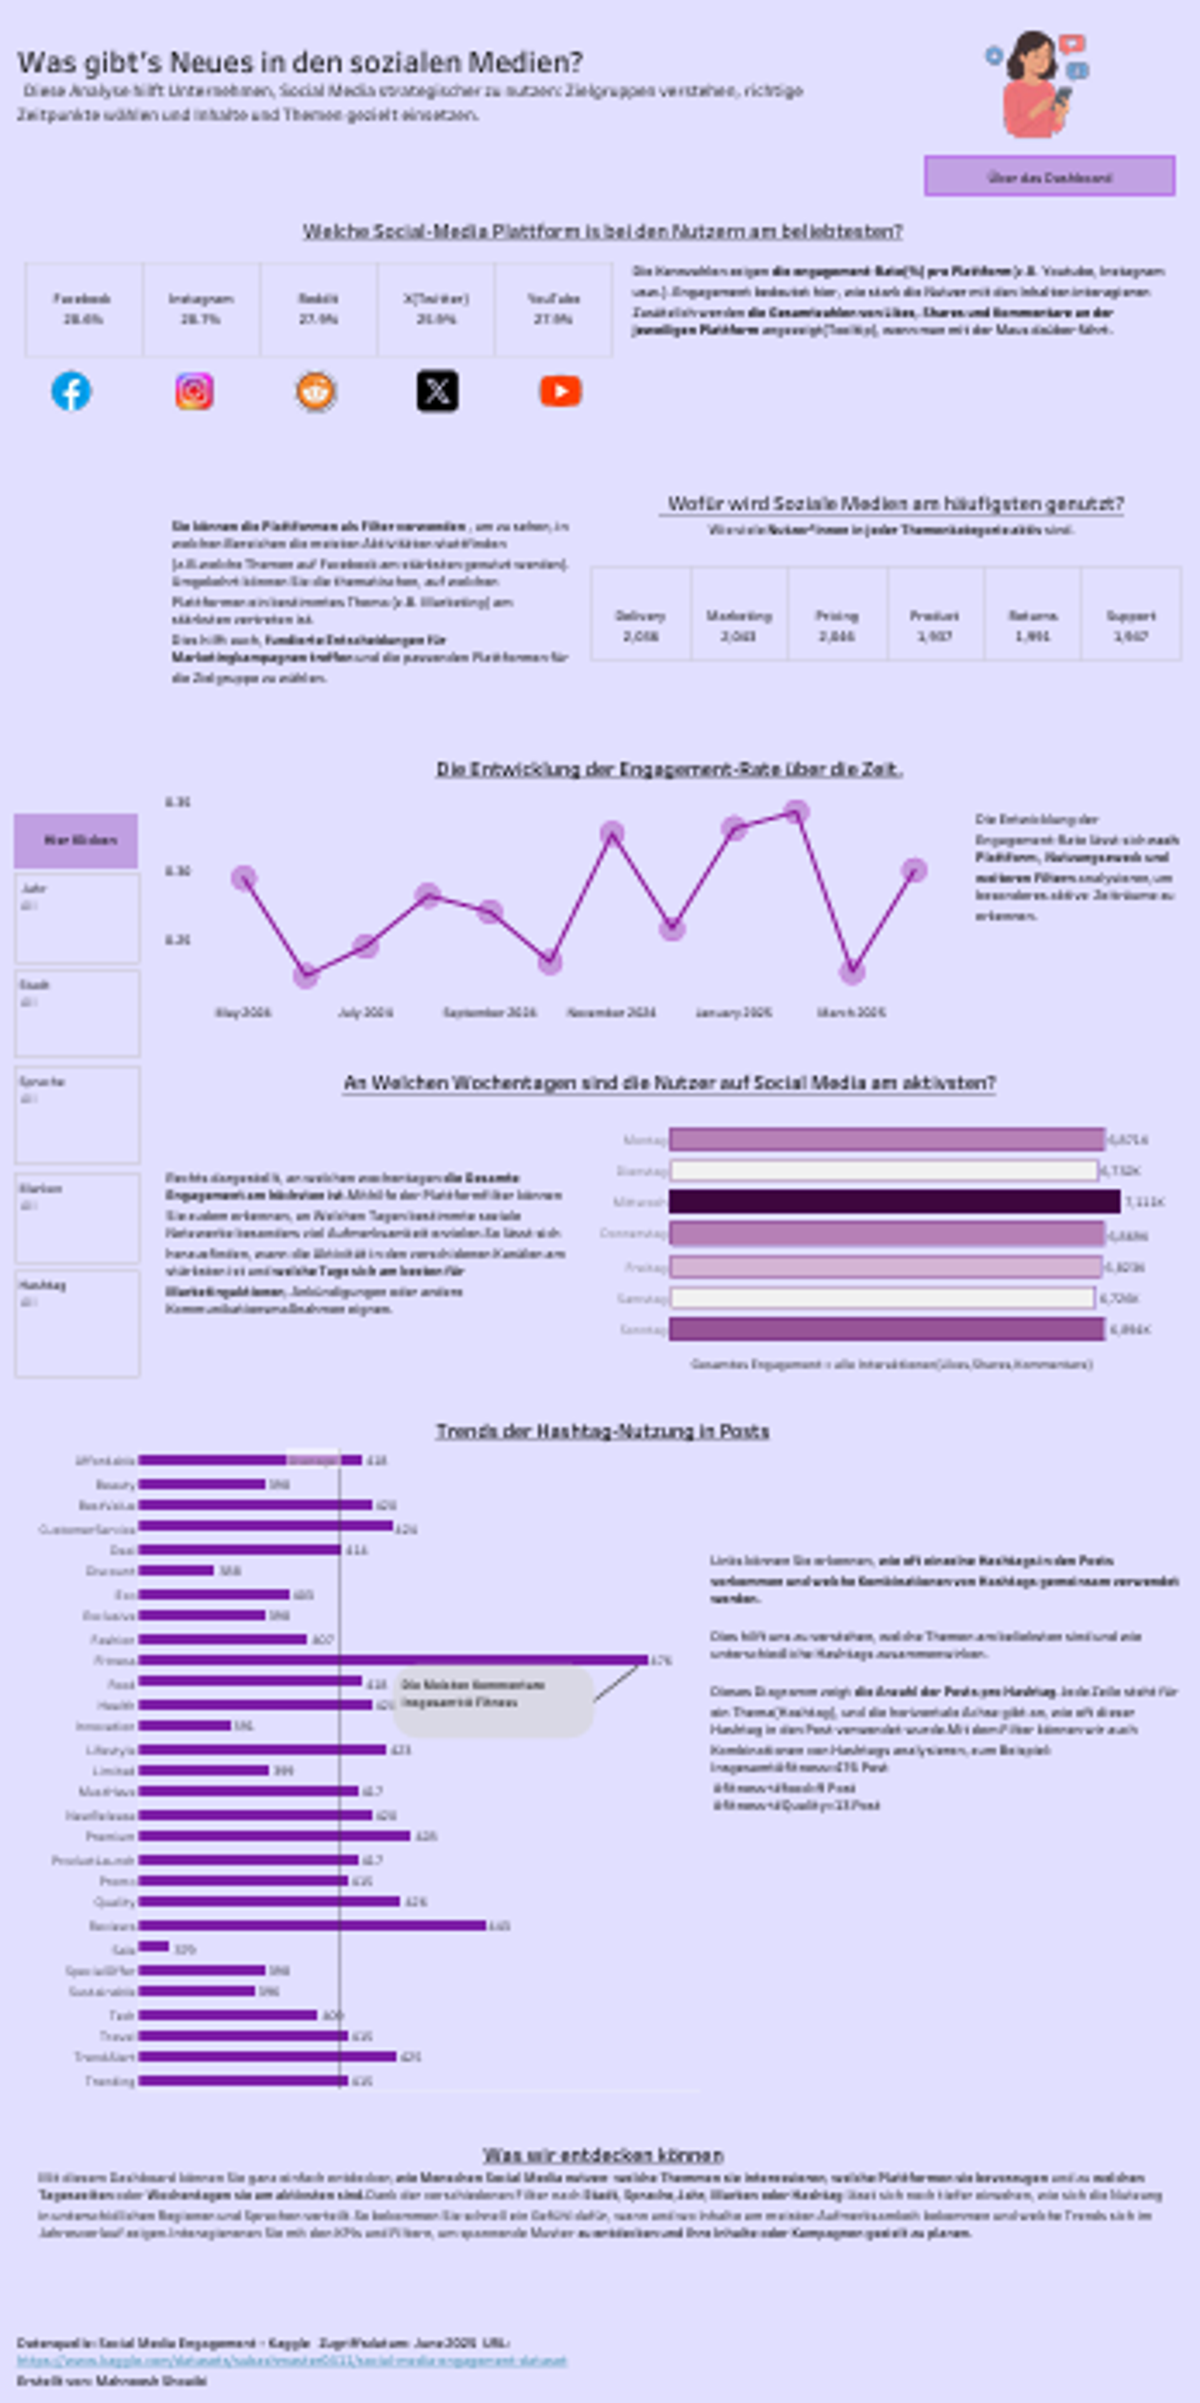

The dashboard page shown, as its layout file describes it:
{"tool":"tableau","page":{"name":"Main Dashboard","canvas":[1020,1800],"ordinal":0},"visuals":[{"type":"title","box":[8,8,1004,72]},{"type":"text","box":[8,80,1004,32]},{"type":"image","param":"Image/Like.jpeg","box":[8,112,328.4,44.8]},{"type":"image","param":"Image/comment1.jpeg","box":[336.4,112,321.5,44.8]},{"type":"image","param":"Image/Share.jpeg","box":[657.8,112,354.2,44.8]},{"type":"worksheet","title":"Like","mark":"Automatic","box":[8,156.8,328.7,34.4]},{"type":"worksheet","title":"Comment","mark":"Automatic","box":[336.7,156.8,321.3,34.4]},{"type":"worksheet","title":"Share","mark":"Automatic","box":[658,156.8,354,34.4]},{"type":"worksheet","title":"Platform","mark":"Bar","rows":["engagement_rate"],"cols":["platform"],"box":[8,191.2,1004,137.4]},{"type":"image","param":"Image/Instagram.png","box":[8,328.7,205.4,39.1]},{"type":"image","param":"Image/Facebook.png","box":[213.4,328.7,196.6,39.1]},{"type":"image","param":"Image/youtube.png","box":[410,328.7,197.1,39.1]},{"type":"image","param":"Image/Reddit.png","box":[607.1,328.7,206.4,39.1]},{"type":"image","param":"Image/X2.jpeg","box":[813.5,328.7,198.5,39.1]},{"type":"text","box":[8,367.8,1004,91.5]},{"type":"worksheet","title":"KPI-Using Social Media","mark":"Automatic","cols":["topic_category"],"box":[8,459.3,1004,117.7]},{"type":"worksheet","title":"weekday","mark":"Automatic","rows":["Calculation_186617955085561867"],"cols":["day_of_week"],"box":[8,577,943.1,166.5]},{"type":"filter","title":"weekday","param":"[federated.00w22cp04i209j12sh5eh1aul82e].[yr:timestamp:ok]","box":[951.1,577,60.9,166.5]},{"type":"text","box":[8,743.5,864,90.9]},{"type":"filter","title":"Engagement-Rate (2)","param":"[federated.00w22cp04i209j12sh5eh1aul82e].[none:brand_name:nk]","box":[872,743.5,140,90.9]},{"type":"worksheet","title":"Engagement-Rate (2)","mark":"Area","rows":["engagement_rate"],"cols":["timestamp"],"box":[8,834.4,1004,203.8]},{"type":"text","box":[8,1038.2,1004,37]},{"type":"worksheet","title":"Map","mark":"Automatic","box":[8,1075.2,511,191.9]},{"type":"worksheet","title":"Language","mark":"Automatic","box":[519,1075.2,493,191.9]},{"type":"text","box":[8,1267.1,828.6,66.2]},{"type":"filter","title":"Hashtags","param":"[federated.00w22cp04i209j12sh5eh1aul82e].[none:hashtags - Split 2:nk]","box":[836.6,1267.1,175.4,66.2]},{"type":"worksheet","title":"Hashtags","mark":"Automatic","rows":["text_content"],"cols":["hashtags - Split 1"],"box":[8,1333.3,1004,237]},{"type":"worksheet","title":"sentimental-share","mark":"Circle","rows":["shares_count"],"cols":["sentiment_label"],"box":[8,1570.3,1004,136.3]},{"type":"text","box":[8,1706.6,1004,30.7]},{"type":"text","box":[8,1737.3,1004,54.7]}]}

Visuals, with their boxes on the page's 1020x1800 design canvas (x1, y1, x2, y2). These are canvas units, not pixel positions in the 1200x2403 screenshot, which may show the page scaled, cropped or inside an application window:
title: detection(8, 8, 1012, 80)
text: detection(8, 80, 1012, 112)
image: detection(8, 112, 336, 157)
image: detection(336, 112, 658, 157)
image: detection(658, 112, 1012, 157)
"Like" worksheet: detection(8, 157, 337, 191)
"Comment" worksheet: detection(337, 157, 658, 191)
"Share" worksheet: detection(658, 157, 1012, 191)
"Platform" worksheet (Bar marks): detection(8, 191, 1012, 329)
image: detection(8, 329, 213, 368)
image: detection(213, 329, 410, 368)
image: detection(410, 329, 607, 368)
image: detection(607, 329, 814, 368)
image: detection(814, 329, 1012, 368)
text: detection(8, 368, 1012, 459)
"KPI-Using Social Media" worksheet: detection(8, 459, 1012, 577)
"weekday" worksheet: detection(8, 577, 951, 744)
"weekday" filter: detection(951, 577, 1012, 744)
text: detection(8, 744, 872, 834)
"Engagement-Rate (2)" filter: detection(872, 744, 1012, 834)
"Engagement-Rate (2)" worksheet (Area marks): detection(8, 834, 1012, 1038)
text: detection(8, 1038, 1012, 1075)
"Map" worksheet: detection(8, 1075, 519, 1267)
"Language" worksheet: detection(519, 1075, 1012, 1267)
text: detection(8, 1267, 837, 1333)
"Hashtags" filter: detection(837, 1267, 1012, 1333)
"Hashtags" worksheet: detection(8, 1333, 1012, 1570)
"sentimental-share" worksheet (Circle marks): detection(8, 1570, 1012, 1707)
text: detection(8, 1707, 1012, 1737)
text: detection(8, 1737, 1012, 1792)
